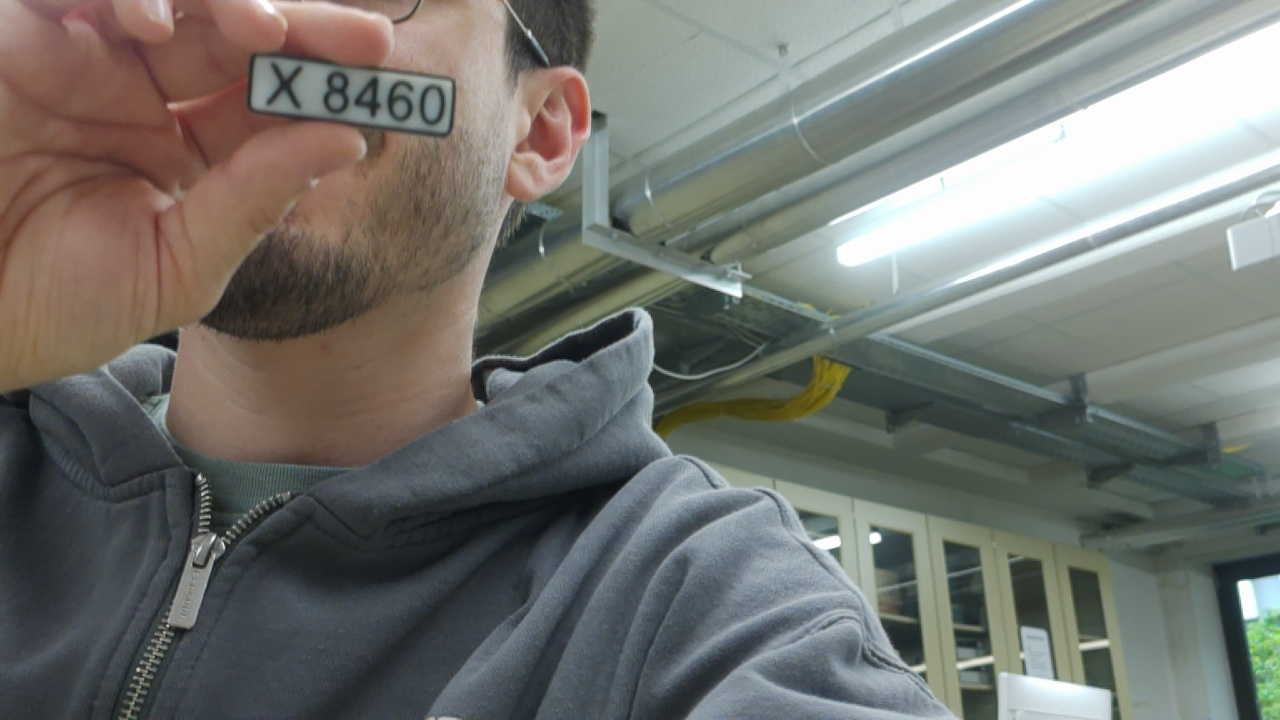license_plate: (239, 43, 460, 144)
